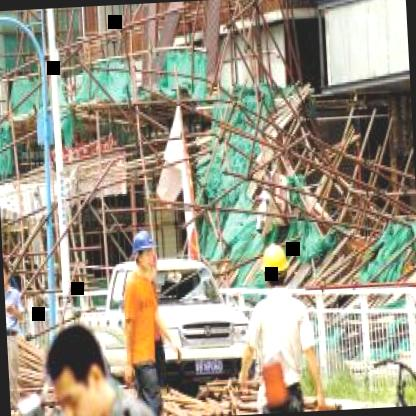head: (34, 308, 127, 416)
helmet: (260, 240, 292, 288), (131, 228, 157, 276)
